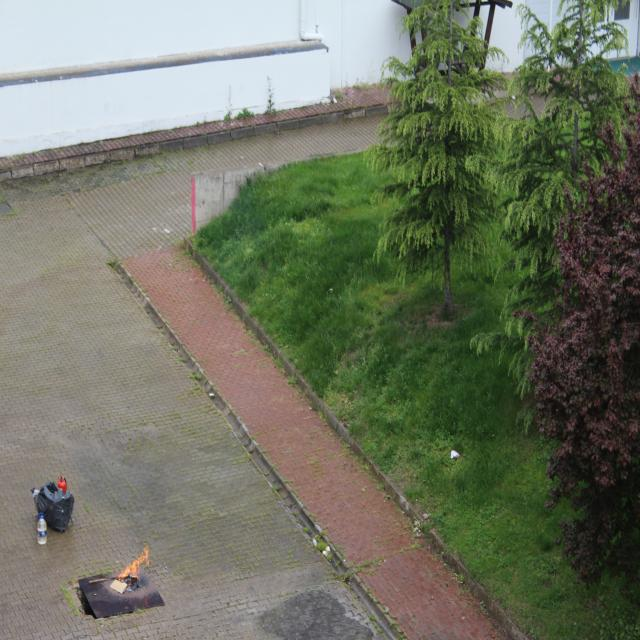fire: (120, 546, 151, 584)
